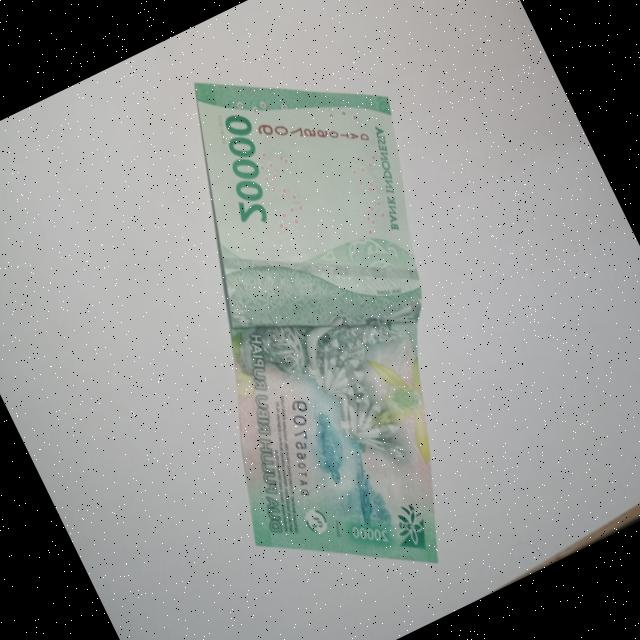20K: (53, 0, 587, 639)
